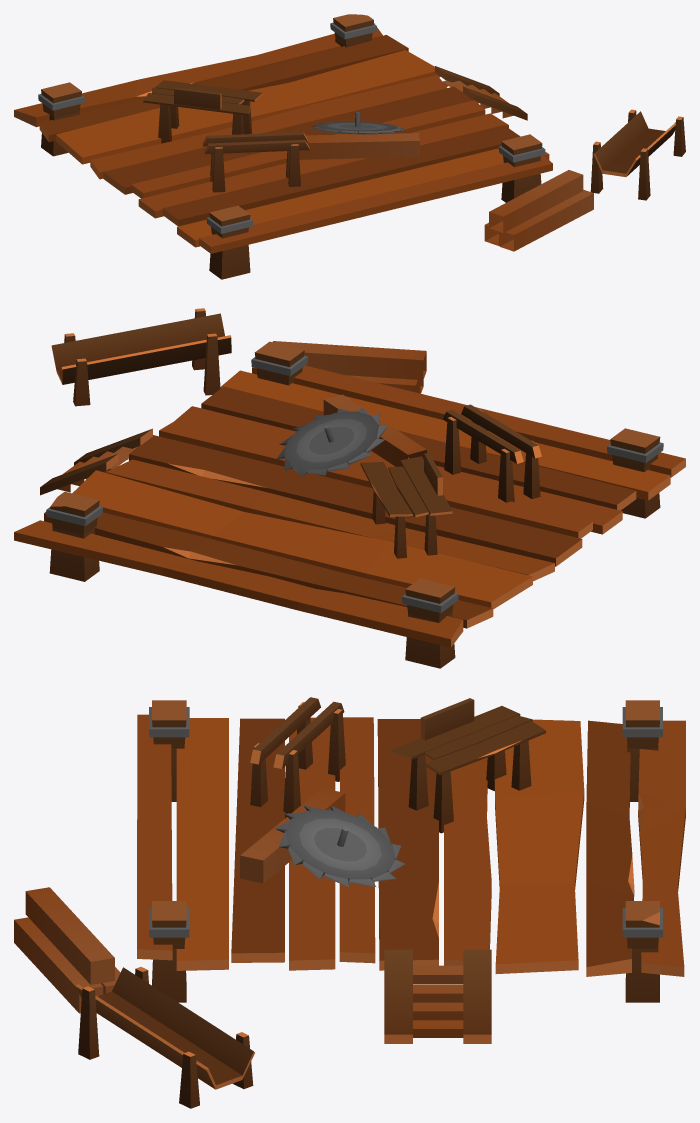
Rendered from sawmill_d_01.fbx.
3 views of the same model, one above another, from view 1: azimuth 30°, elevation 25°; view 2: azimuth 150°, elevation 25°; view 3: azimuth 270°, elevation 25° (orthographic). The views are drawn at different scales.
Visible parts, largest first — view 1: Cylinder.004; view 2: Cylinder.004; view 3: Cylinder.004.
Boxes of the visible parts, x1,y1,x2,y2 form: Cylinder.004: [14, 14, 685, 279]; Cylinder.004: [14, 308, 685, 668]; Cylinder.004: [14, 697, 685, 1108].
Bounding box in the file's own units: 14.39 × 2.54 × 11.95.
